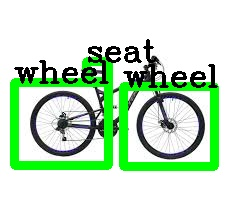seat: (86, 61, 108, 81)
wheel: (14, 82, 108, 165), (123, 86, 214, 166)
